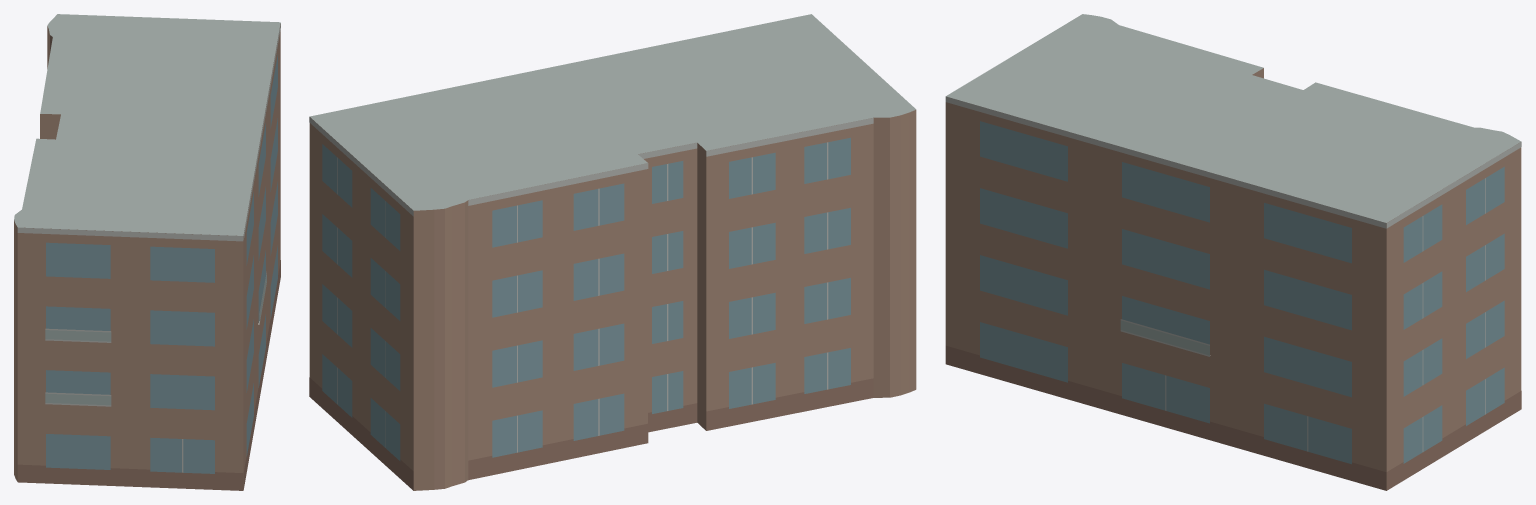
Rendered from survey-upis-32823750.glb.
3 renders of one model, left to right at view 1: azimuth 30°, elevation 25°; view 2: azimuth 150°, elevation 25°; view 3: azimuth 270°, elevation 25°, orthographic. The views are drawn at different scales.
Parts seen in each view (by area): view 1: survey-upis-32823750.tmp; view 2: survey-upis-32823750.tmp; view 3: survey-upis-32823750.tmp.
Part boxes in pixels (x1=…): survey-upis-32823750.tmp: x1=14, y1=14, x2=280, y2=490; survey-upis-32823750.tmp: x1=309, y1=14, x2=916, y2=490; survey-upis-32823750.tmp: x1=945, y1=14, x2=1521, y2=490.
Size of the model in its own units: 19.26 by 11.5 by 22.41.
